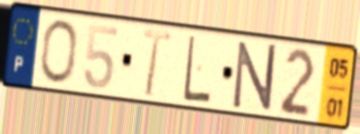2: (278, 45, 319, 120)
5: (82, 22, 120, 91)
L: (181, 32, 213, 105)
N: (231, 40, 278, 114)
O: (39, 17, 79, 87)
T: (141, 26, 174, 100)
